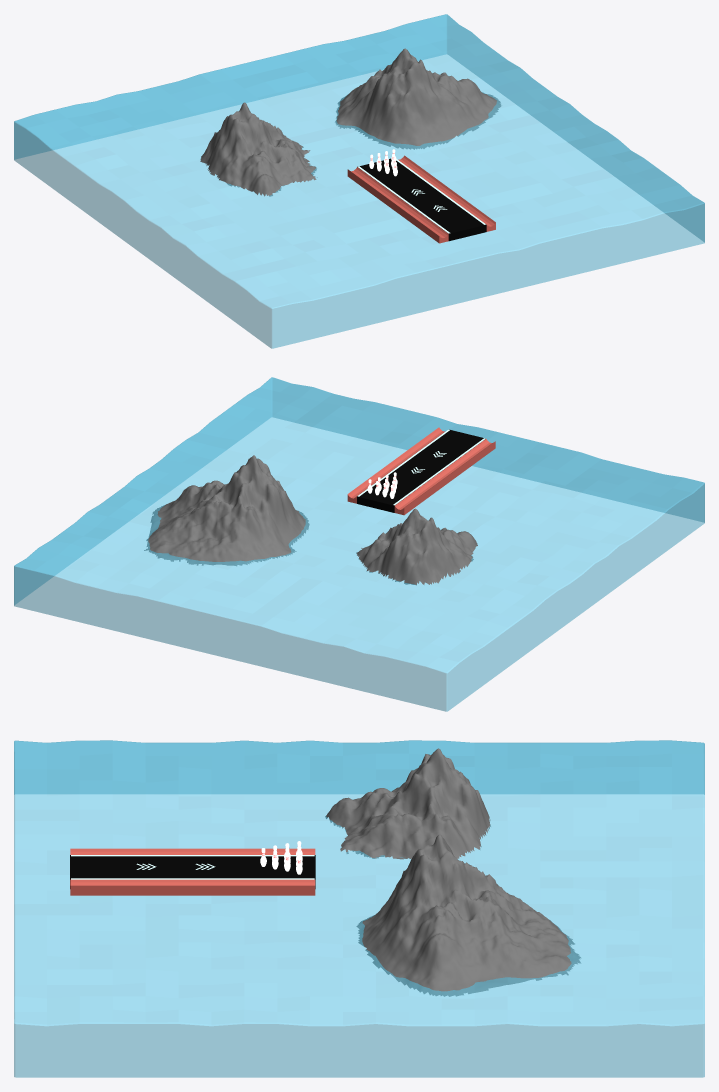
File: BowlingSet1.glb
The picture shows the model from 3 angles, top to bottom: view 1: azimuth 30°, elevation 25°; view 2: azimuth 150°, elevation 25°; view 3: azimuth 270°, elevation 25°; orthographic projection. The views are drawn at different scales.
Visible parts, largest first — view 1: sea, Landscape.005, Landscape.001, Cube.001, Cube.002, Cube; view 2: sea, Landscape.005, Landscape.001, Cube.001, Cube.002, Cube; view 3: sea, Landscape.005, Landscape.001, Cube.001, Cube, Cube.002.
Part boxes in pixels (x1,y1,x2,y2): sea: [14, 14, 704, 348]; Landscape.005: [335, 48, 501, 149]; Landscape.001: [200, 102, 317, 196]; Cube.001: [357, 158, 486, 241]; Cube.002: [347, 167, 448, 243]; Cube: [398, 155, 495, 231]; sea: [14, 377, 704, 711]; Landscape.005: [144, 455, 309, 566]; Landscape.001: [356, 508, 477, 585]; Cube.001: [357, 429, 485, 512]; Cube.002: [394, 439, 495, 515]; Cube: [347, 427, 445, 503]; sea: [14, 740, 704, 1077]; Landscape.005: [356, 834, 580, 996]; Landscape.001: [325, 748, 490, 859]; Cube.001: [70, 855, 315, 888]; Cube: [70, 879, 315, 895]; Cube.002: [70, 848, 315, 854].
Size of the model in its own units: 124 by 30.76 by 128.
